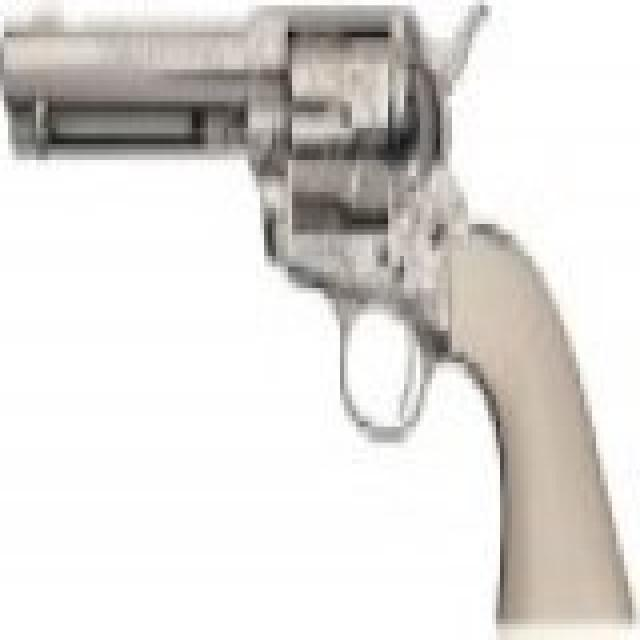Gun: (8, 4, 638, 619)
